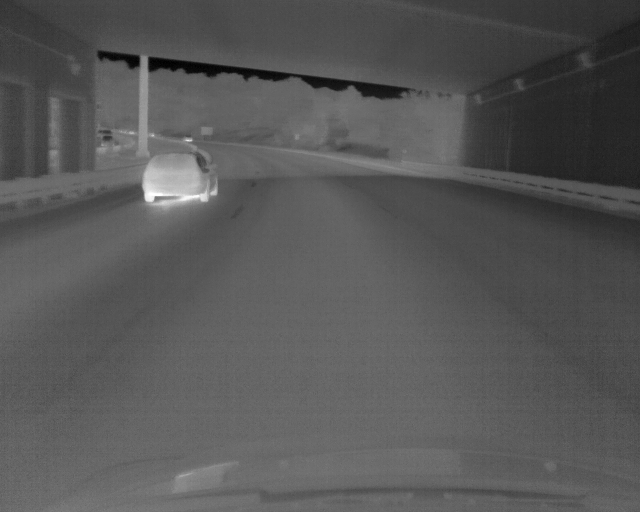car: (140, 152, 219, 202), (100, 135, 115, 149), (182, 133, 194, 142)
